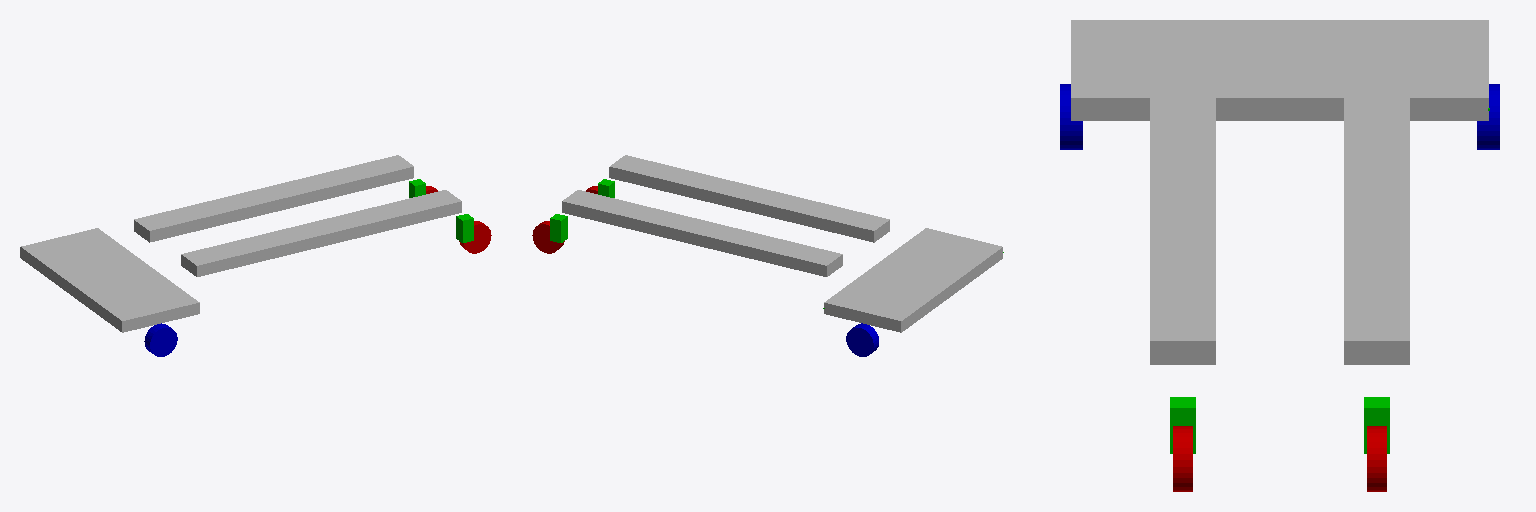
robot.urdf — amr:
<?xml version="1.0" ?>
<!-- =================================================================================== -->
<!-- |    This document was autogenerated by xacro from amr.xacro                      | -->
<!-- |    EDITING THIS FILE BY HAND IS NOT RECOMMENDED                                 | -->
<!-- =================================================================================== -->
<robot name="amr">
  <!-- kp: stiffness coefficient,   [N/m?]  -->
  <!-- kp: stiffness coefficient,   [N/m?]  -->
  <!-- cw_izz: caster wheel inertia z axis, [kgm^2]  -->
  <!-- dwt: driving wheel tread, [m]  -->
  <!-- dw_izz: driving wheel inertia z axis, [kgm^2]  -->
  <!-- ch: chassis center of mass position,  [m] -->
  <!-- c_izz: chassis inertia z axis, [kgm^2]  -->
  <!-- cfwp: caster front wheel position, [m]  -->
  <!--xacro:macro name="driving_wheel_transmission" params="number">
        <transmission name="tran${number}">
            <type>transmission_interface/SimpleTransmission</type>
            <joint name="base_link_driving_wheel_M${number}_joint">
                <hardwareInterface>hardware_interface/VelocityJointInterface</hardwareInterface>
            </joint>
            <actuator name="motor${number}">
                <hardwareInterface>hardware_interface/VelocityJointInterface</hardwareInterface>
                <mechanicalReduction>1</mechanicalReduction>
            </actuator>
        </transmission>
    </xacro:macro-->
  <material name="blue">
    <color rgba="0 0 0.8 1"/>
  </material>
  <material name="red">
    <color rgba="0.8 0 0 1"/>
  </material>
  <material name="green">
    <color rgba="0 0.8 0 1"/>
  </material>
  <material name="grey">
    <color rgba="0.75 0.75 0.75 1"/>
  </material>
  <material name="white">
    <color rgba="1.0 1.0 1.0 1"/>
  </material>
  <material name="black">
    <color rgba="0 0 0 1"/>
  </material>
  <!-- * * * Link Definitions * * * -->
  <link name="base_link">
    <visual>
      <origin rpy="0 0 0" xyz="0 0 0"/>
      <geometry>
        <box size="0.35 0.8 0.05"/>
      </geometry>
      <material name="grey"/>
    </visual>
    <collision>
      <origin rpy="0 0 0" xyz="0 0 0"/>
      <geometry>
        <box size="0.35 0.8 0.05"/>
      </geometry>
    </collision>
    <inertial>
      <origin rpy="0 0 0" xyz="0 0 0"/>
      <!-- default: xyz="0 0 0" rpy="0 0 0" -->
      <mass value="70.0"/>
      <inertia ixx="3.747916666666667" ixy="0.0" ixz="0.0" iyy="0.7291666666666665" iyz="0.0" izz="4.447916666666667"/>
    </inertial>
  </link>
  <gazebo reference="base_link">
    <kp>10000.0</kp>
    <kd>10000.0</kd>
    <mu1>10.0</mu1>
    <mu2>10.0</mu2>
    <material>Gazebo/Grey</material>
  </gazebo>
  <link name="elevator_sx_link">
    <visual>
      <origin rpy="0 0 0" xyz="0 0 0"/>
      <geometry>
        <box size="1.2 0.125 0.05"/>
      </geometry>
      <material name="grey"/>
    </visual>
    <collision>
      <origin rpy="0 0 0" xyz="0 0 0"/>
      <geometry>
        <box size="1.2 0.125 0.05"/>
      </geometry>
    </collision>
    <inertial>
      <origin rpy="0 0 0" xyz="0 0 0"/>
      <!-- default: xyz="0 0 0" rpy="0 0 0" -->
      <mass value="10"/>
      <inertia ixx="3.747916666666667" ixy="0.0" ixz="0.0" iyy="0.7291666666666665" iyz="0.0" izz="4.447916666666667"/>
    </inertial>
  </link>
  <gazebo reference="elevator_sx_link">
    <kp>10000.0</kp>
    <kd>10000.0</kd>
    <mu1>10.0</mu1>
    <mu2>10.0</mu2>
    <material>Gazebo/Grey</material>
  </gazebo>
  <joint name="base_link_elevator_sx_link_joint" type="prismatic">
    <parent link="base_link"/>
    <child link="elevator_sx_link"/>
    <limit effort="1000.0" lower="0" upper="0.080" velocity="0.5"/>
    <origin rpy="0 0 0" xyz="0.85 0.186 0.080"/>
    <axis xyz="0 0 1"/>
  </joint>
  <link name="elevator_dx_link">
    <visual>
      <origin rpy="0 0 0" xyz="0 0 0"/>
      <geometry>
        <box size="1.2 0.125 0.05"/>
      </geometry>
      <material name="grey"/>
    </visual>
    <collision>
      <origin rpy="0 0 0" xyz="0 0 0"/>
      <geometry>
        <box size="1.2 0.125 0.05"/>
      </geometry>
    </collision>
    <inertial>
      <origin rpy="0 0 0" xyz="0 0 0"/>
      <!-- default: xyz="0 0 0" rpy="0 0 0" -->
      <mass value="10"/>
      <inertia ixx="3.747916666666667" ixy="0.0" ixz="0.0" iyy="0.7291666666666665" iyz="0.0" izz="4.447916666666667"/>
    </inertial>
  </link>
  <gazebo reference="elevator_dx_link">
    <kp>10000.0</kp>
    <kd>10000.0</kd>
    <mu1>10.0</mu1>
    <mu2>10.0</mu2>
    <material>Gazebo/Grey</material>
  </gazebo>
  <joint name="base_link_elevator_dx_link_joint" type="prismatic">
    <parent link="base_link"/>
    <child link="elevator_dx_link"/>
    <limit effort="1000.0" lower="0" upper="0.080" velocity="0.5"/>
    <origin rpy="0 0 0" xyz="0.85 -0.186 0.080"/>
    <axis xyz="0 0 1"/>
  </joint>
  <link name="caster_wheel_M1_link">
    <visual>
      <origin rpy="0 0 0" xyz="0 0 0"/>
      <geometry>
        <box size="0.050 0.050 0.0975"/>
      </geometry>
      <material name="green"/>
    </visual>
    <collision>
      <origin rpy="0 0 0" xyz="0 0 0"/>
      <geometry>
        <box size="0.050 0.050 0.0975"/>
      </geometry>
    </collision>
    <inertial>
      <origin rpy="0 0 0" xyz="0 0 0"/>
      <mass value="0.05"/>
      <inertia ixx="0" ixy="0.0" ixz="0.0" iyy="0" iyz="0.0" izz="0"/>
    </inertial>
  </link>
  <gazebo reference="caster_wheel_M1_link">
    <kp>10000.0</kp>
    <kd>10000.0</kd>
    <mu1>10.0</mu1>
    <mu2>10.0</mu2>
    <material>Gazebo/Green</material>
  </gazebo>
  <link name="wheel_M1_link">
    <visual>
      <origin rpy="0 0 0" xyz="0 0 0"/>
      <geometry>
        <cylinder length="0.037" radius="0.0625"/>
      </geometry>
      <material name="red"/>
    </visual>
    <collision>
      <origin rpy="0 0 0" xyz="0 0 0"/>
      <geometry>
        <cylinder length="0.037" radius="0.0625"/>
      </geometry>
    </collision>
    <inertial>
      <origin rpy="0 0 0" xyz="0 0 0"/>
      <mass value="0.5"/>
      <inertia ixx="0.0005453229166666666" ixy="0.0" ixz="0.0" iyy="0.0005453229166666666" iyz="0.0" izz="0.0009765625"/>
    </inertial>
  </link>
  <gazebo reference="wheel_M1_link">
    <kp>5000.0</kp>
    <kd>5000.0</kd>
    <mu1>30.0</mu1>
    <mu2>30.0</mu2>
    <material>Gazebo/Red</material>
  </gazebo>
  <joint name="caster_wheel_M1_wheel_M1_joint" type="continuous">
    <parent link="caster_wheel_M1_link"/>
    <child link="wheel_M1_link"/>
    <origin rpy="1.570796 0 0" xyz="0.047 0 -0.04875"/>
    <limit effort="1.0" velocity="0.005"/>
    <axis xyz="0 0 1"/>
  </joint>
  <link name="caster_wheel_M2_link">
    <visual>
      <origin rpy="0 0 0" xyz="0 0 0"/>
      <geometry>
        <box size="0.050 0.050 0.0975"/>
      </geometry>
      <material name="green"/>
    </visual>
    <collision>
      <origin rpy="0 0 0" xyz="0 0 0"/>
      <geometry>
        <box size="0.050 0.050 0.0975"/>
      </geometry>
    </collision>
    <inertial>
      <origin rpy="0 0 0" xyz="0 0 0"/>
      <mass value="0.05"/>
      <inertia ixx="0" ixy="0.0" ixz="0.0" iyy="0" iyz="0.0" izz="0"/>
    </inertial>
  </link>
  <gazebo reference="caster_wheel_M2_link">
    <kp>10000.0</kp>
    <kd>10000.0</kd>
    <mu1>10.0</mu1>
    <mu2>10.0</mu2>
    <material>Gazebo/Green</material>
  </gazebo>
  <link name="wheel_M2_link">
    <visual>
      <origin rpy="0 0 0" xyz="0 0 0"/>
      <geometry>
        <cylinder length="0.037" radius="0.0625"/>
      </geometry>
      <material name="red"/>
    </visual>
    <collision>
      <origin rpy="0 0 0" xyz="0 0 0"/>
      <geometry>
        <cylinder length="0.037" radius="0.0625"/>
      </geometry>
    </collision>
    <inertial>
      <origin rpy="0 0 0" xyz="0 0 0"/>
      <mass value="0.5"/>
      <inertia ixx="0.0005453229166666666" ixy="0.0" ixz="0.0" iyy="0.0005453229166666666" iyz="0.0" izz="0.0009765625"/>
    </inertial>
  </link>
  <gazebo reference="wheel_M2_link">
    <kp>5000.0</kp>
    <kd>5000.0</kd>
    <mu1>30.0</mu1>
    <mu2>30.0</mu2>
    <material>Gazebo/Red</material>
  </gazebo>
  <joint name="caster_wheel_M2_wheel_M2_joint" type="continuous">
    <parent link="caster_wheel_M2_link"/>
    <child link="wheel_M2_link"/>
    <origin rpy="1.570796 0 0" xyz="0.047 0 -0.04875"/>
    <limit effort="1.0" velocity="0.005"/>
    <axis xyz="0 0 1"/>
  </joint>
  <!-- 
    <xacro:caster_wheel_link number="3" colour="Red"/>
    <xacro:caster_wheel_link number="4" colour="Red"/> -->
  <joint name="base_link_caster_wheel_M1_joint" type="continuous">
    <parent link="base_link"/>
    <child link="caster_wheel_M1_link"/>
    <origin rpy="0 0 0" xyz="1.5 0.186 -0.05"/>
    <!-- xyz="${-clod/2} ${clad/2} ${-ch}" rpy="0 0 0" -->
    <limit effort="1.0" velocity="1"/>
    <axis xyz="0 0 1"/>
  </joint>
  <joint name="base_link_caster_wheel_M2_joint" type="continuous">
    <parent link="base_link"/>
    <child link="caster_wheel_M2_link"/>
    <origin rpy="0 0 0" xyz="1.5 -0.186 -0.05"/>
    <!-- xyz="${-clod/2} ${clad/2} ${-ch}" rpy="0 0 0" -->
    <limit effort="1.0" velocity="1"/>
    <axis xyz="0 0 1"/>
  </joint>
  <!-- 
    <joint name="base_link_caster_wheel_M3_joint" type="continuous">
    	<parent link="base_link"/>
    	<child link="caster_wheel_M3_link"/>
        <origin xyz="${-clod/2} ${clad/2} ${-ch}" rpy="0 0 0"/>
        <limit effort="1.0" velocity="1"/>
        <axis xyz="0 0 1"/>
	</joint>

    <joint name="base_link_caster_wheel_M4_joint" type="continuous">
    	<parent link="base_link"/>
    	<child link="caster_wheel_M4_link"/>
        <origin xyz="${-clod/2} ${-clad/2} ${-ch}" rpy="0 0 0"/> 
        <limit effort="1.0" velocity="1"/>
        <axis xyz="0 0 1"/>
	</joint> -->
  <link name="driving_wheel_M1_link">
    <visual>
      <origin rpy="0 0 0" xyz="0 0 0"/>
      <geometry>
        <cylinder length="0.044" radius="0.0625"/>
      </geometry>
      <material name="blue"/>
    </visual>
    <collision>
      <origin rpy="0 0 0" xyz="0 0 0"/>
      <geometry>
        <cylinder length="0.044" radius="0.0625"/>
      </geometry>
    </collision>
    <inertial>
      <origin rpy="0 0 0" xyz="0 0 0"/>
      <mass value="0.6"/>
      <inertia ixx="0.0006827375" ixy="0.0" ixz="0.0" iyy="0.0006827375" iyz="0.0" izz="0.001171875"/>
    </inertial>
  </link>
  <gazebo reference="driving_wheel_M1_link">
    <kp>25000.0</kp>
    <kd>25000.0</kd>
    <mu1>10.0</mu1>
    <mu2>10.0</mu2>
    <material>Gazebo/Blue</material>
  </gazebo>
  <link name="driving_wheel_M2_link">
    <visual>
      <origin rpy="0 0 0" xyz="0 0 0"/>
      <geometry>
        <cylinder length="0.044" radius="0.0625"/>
      </geometry>
      <material name="blue"/>
    </visual>
    <collision>
      <origin rpy="0 0 0" xyz="0 0 0"/>
      <geometry>
        <cylinder length="0.044" radius="0.0625"/>
      </geometry>
    </collision>
    <inertial>
      <origin rpy="0 0 0" xyz="0 0 0"/>
      <mass value="0.6"/>
      <inertia ixx="0.0006827375" ixy="0.0" ixz="0.0" iyy="0.0006827375" iyz="0.0" izz="0.001171875"/>
    </inertial>
  </link>
  <gazebo reference="driving_wheel_M2_link">
    <kp>25000.0</kp>
    <kd>25000.0</kd>
    <mu1>10.0</mu1>
    <mu2>10.0</mu2>
    <material>Gazebo/Blue</material>
  </gazebo>
  <joint name="base_link_driving_wheel_M1_joint" type="continuous">
    <parent link="base_link"/>
    <child link="driving_wheel_M1_link"/>
    <origin rpy="1.57 0 0" xyz="0 -0.4 -0.0975"/>
    <limit effort="15.0" velocity="0.1"/>
    <axis xyz="0 0 -1"/>
  </joint>
  <joint name="base_link_driving_wheel_M2_joint" type="continuous">
    <parent link="base_link"/>
    <child link="driving_wheel_M2_link"/>
    <origin rpy="1.57 0 0" xyz="0 0.4 -0.0975"/>
    <limit effort="15.0" velocity="0.1"/>
    <axis xyz="0 0 -1"/>
  </joint>
  <gazebo>
    <plugin filename="libgazebo_ros_diff_drive.so" name="differential_drive_controller">
      <alwaysOn>true</alwaysOn>
      <updateRate>50</updateRate>
      <leftJoint>base_link_driving_wheel_M2_joint</leftJoint>
      <rightJoint>base_link_driving_wheel_M1_joint</rightJoint>
      <wheelSeparation>0.8440000000000001</wheelSeparation>
      <wheelDiameter>0.125</wheelDiameter>
      <wheelAcceleration>0.2</wheelAcceleration>
      <wheelTorque>30</wheelTorque>
      <commandTopic>cmd_vel</commandTopic>
      <odometryTopic>odom</odometryTopic>
      <odometryFrame>odom</odometryFrame>
      <robotBaseFrame>base_footprint</robotBaseFrame>
      <publishWheelTF>true</publishWheelTF>
      <publishOdom>true</publishOdom>
      <robotBaseFrame>base_link</robotBaseFrame>
      <publishWheelJointState>true</publishWheelJointState>
      <legacyMode>false</legacyMode>
      <rosDebugLevel>false</rosDebugLevel>
      <publishOdomTF>true</publishOdomTF>
      <odometrySource>1</odometrySource>
      <publishTf>1</publishTf>
    </plugin>
  </gazebo>
  <!--xacro:driving_wheel_transmission number="1"/>
    <xacro:driving_wheel_transmission number="2"/-->
  <!-- ############# Sensors ############ -->
  <!-- Depth sensor in the front -->
  <link name="front_dcamera_link">
    <visual>
      <origin rpy="0.0 0 0" xyz="0 0 0"/>
      <geometry>
        <box size="0.0005 0.0005 0.0005"/>
      </geometry>
      <material name="green"/>
    </visual>
  </link>
  <joint name="base_front_dcamera_joint" type="fixed">
    <parent link="base_link"/>
    <child link="front_dcamera_link"/>
    <origin rpy="0 0 0" xyz="0.175 0 0"/>
  </joint>
  <gazebo reference="front_dcamera_link">
    <sensor name="front_depth_camera" type="depth">
      <update_rate>20</update_rate>
      <camera>
        <horizontal_fov>1.047198</horizontal_fov>
        <image>
          <width>640</width>
          <height>480</height>
          <format>R8G8B8</format>
        </image>
        <clip>
          <near>0.05</near>
          <far>3</far>
        </clip>
      </camera>
      <plugin filename="libgazebo_ros_openni_kinect.so" name="front_depth_link_controller">
        <baseline>0.2</baseline>
        <alwaysOn>true</alwaysOn>
        <updateRate>1.0</updateRate>
        <cameraName>front_dcamera</cameraName>
        <imageTopicName>front_dcamera/color/image_raw</imageTopicName>
        <cameraInfoTopicName>/front_dcamera/color/camera_info</cameraInfoTopicName>
        <depthImageTopicName>/front_dcamera/depth/image_raw</depthImageTopicName>
        <depthImageInfoTopicName>/front_dcamera/depth/camera_info</depthImageInfoTopicName>
        <pointCloudTopicName>/front_dcamera/depth/points</pointCloudTopicName>
        <frameName>front_dcamera_link</frameName>
        <pointCloudCutoff>0.5</pointCloudCutoff>
        <pointCloudCutoffMax>3.0</pointCloudCutoffMax>
        <distortionK1>0.00000001</distortionK1>
        <distortionK2>0.00000001</distortionK2>
        <distortionK3>0.00000001</distortionK3>
        <distortionT1>0.00000001</distortionT1>
        <distortionT2>0.00000001</distortionT2>
        <CxPrime>0</CxPrime>
        <Cx>0</Cx>
        <Cy>0</Cy>
        <focalLength>0</focalLength>
        <hackBaseline>0</hackBaseline>
      </plugin>
    </sensor>
  </gazebo>
  <!-- Depth sensor in the back -->
  <link name="rear_dcamera_link">
    <visual>
      <origin rpy="0.0 0 0" xyz="0 0 0"/>
      <geometry>
        <box size="0.0005 0.0005 0.0005"/>
      </geometry>
      <material name="green"/>
    </visual>
  </link>
  <joint name="base_rear_dcamera_joint" type="fixed">
    <parent link="base_link"/>
    <child link="rear_dcamera_link"/>
    <origin rpy="0 0 3.1416" xyz="-0.175 0 0"/>
  </joint>
  <gazebo reference="rear_dcamera_link">
    <sensor name="rear_depth_camera" type="depth">
      <update_rate>20</update_rate>
      <camera>
        <horizontal_fov>1.047198</horizontal_fov>
        <image>
          <width>640</width>
          <height>480</height>
          <format>R8G8B8</format>
        </image>
        <clip>
          <near>0.05</near>
          <far>3</far>
        </clip>
      </camera>
      <plugin filename="libgazebo_ros_openni_kinect.so" name="rear_depth_link_controller">
        <baseline>0.2</baseline>
        <alwaysOn>true</alwaysOn>
        <updateRate>1.0</updateRate>
        <cameraName>rear_dcamera</cameraName>
        <imageTopicName>rear_dcamera/color/image_raw</imageTopicName>
        <cameraInfoTopicName>/rear_dcamera/color/camera_info</cameraInfoTopicName>
        <depthImageTopicName>/rear_dcamera/depth/image_raw</depthImageTopicName>
        <depthImageInfoTopicName>/rear_dcamera/depth/camera_info</depthImageInfoTopicName>
        <pointCloudTopicName>/rear_dcamera/depth/points</pointCloudTopicName>
        <frameName>rear_dcamera_link</frameName>
        <pointCloudCutoff>0.5</pointCloudCutoff>
        <pointCloudCutoffMax>3.0</pointCloudCutoffMax>
        <distortionK1>0.00000001</distortionK1>
        <distortionK2>0.00000001</distortionK2>
        <distortionK3>0.00000001</distortionK3>
        <distortionT1>0.00000001</distortionT1>
        <distortionT2>0.00000001</distortionT2>
        <CxPrime>0</CxPrime>
        <Cx>0</Cx>
        <Cy>0</Cy>
        <focalLength>0</focalLength>
        <hackBaseline>0</hackBaseline>
      </plugin>
    </sensor>
  </gazebo>
  <!-- Sensor Laser in the front -->
  <link name="front_laserscanner_link">
    <visual>
      <origin rpy="0.0 0 0" xyz="0 0 0"/>
      <geometry>
        <box size="0.005 0.005 0.005"/>
      </geometry>
      <material name="green"/>
    </visual>
    <collision>
      <origin rpy="0.0 0 0" xyz="0 0 0"/>
      <geometry>
        <box size="0.005 0.005 0.005"/>
      </geometry>
    </collision>
    <inertial>
      <mass value="1e-5"/>
      <origin rpy="0 0 0" xyz="0 0 0"/>
      <inertia ixx="1e-6" ixy="0" ixz="0" iyy="1e-6" iyz="0" izz="1e-6"/>
    </inertial>
  </link>
  <joint name="base_front_laserscanner_joint" type="fixed">
    <axis xyz="0 1 0"/>
    <parent link="base_link"/>
    <child link="front_laserscanner_link"/>
    <origin rpy="0 0 0" xyz="0.175 0.4 0"/>
  </joint>
  <gazebo reference="front_laserscanner_link">
    <sensor name="front_rplidar_sensor" type="ray">
      <pose>0 0 0 0 0 0</pose>
      <visualize>false</visualize>
      <update_rate>40</update_rate>
      <ray>
        <scan>
          <horizontal>
            <samples>720</samples>
            <resolution>1</resolution>
            <min_angle>-1.4</min_angle>
            <max_angle>3.1416</max_angle>
          </horizontal>
        </scan>
        <range>
          <min>0.10</min>
          <max>30.0</max>
          <resolution>0.01</resolution>
        </range>
        <noise>
          <type>gaussian</type>
          <!-- Noise parameters based on published spec for Hokuyo laser
                         achieving "+-30mm" accuracy at range < 10m.  A mean of 0.0m and
                         stddev of 0.01m will put 99.7% of samples within 0.03m of the true
                         reading. -->
          <mean>0.0</mean>
          <stddev>0.01</stddev>
        </noise>
      </ray>
      <plugin filename="libgazebo_ros_laser.so" name="gazebo_ros_head_hokuyo_controller">
        <topicName>front_scan</topicName>
        <frameName>front_laserscanner_link</frameName>
      </plugin>
    </sensor>
  </gazebo>
  <!--gazebo reference="rplidar_link">
        <material>Gazebo/FlatBlack</material>
    </gazebo-->
  <!-- Sensor Laser in the back -->
  <link name="rear_laserscanner_link">
    <visual>
      <origin rpy="0.0 0 0" xyz="0 0 0"/>
      <geometry>
        <box size="0.0005 0.0005 0.0005"/>
      </geometry>
      <material name="green"/>
    </visual>
    <collision>
      <origin rpy="0.0 0 0" xyz="0 0 0"/>
      <geometry>
        <box size="0.0005 0.0005 0.0005"/>
      </geometry>
    </collision>
    <inertial>
      <mass value="1e-5"/>
      <origin rpy="0 0 0" xyz="0 0 0"/>
      <inertia ixx="1e-6" ixy="0" ixz="0" iyy="1e-6" iyz="0" izz="1e-6"/>
    </inertial>
  </link>
  <joint name="base_rear_laserscanner_joint" type="fixed">
    <parent link="base_link"/>
    <child link="rear_laserscanner_link"/>
    <origin rpy="0 0 3.14159268" xyz="-0.175 -0.4 0"/>
  </joint>
  <gazebo reference="rear_laserscanner_link">
    <sensor name="rear_rplidar_sensor" type="ray">
      <pose>0 0 0 0 0 0</pose>
      <visualize>false</visualize>
      <update_rate>40</update_rate>
      <ray>
        <scan>
          <horizontal>
            <samples>720</samples>
            <resolution>1</resolution>
            <min_angle>-1.4</min_angle>
            <max_angle>3.1416</max_angle>
          </horizontal>
        </scan>
        <range>
          <min>0.10</min>
          <max>30.0</max>
          <resolution>0.01</resolution>
        </range>
        <noise>
          <type>gaussian</type>
          <!-- Noise parameters based on published spec for Hokuyo laser
                         achieving "+-30mm" accuracy at range < 10m.  A mean of 0.0m and
                         stddev of 0.01m will put 99.7% of samples within 0.03m of the true
                         reading. -->
          <mean>0.0</mean>
          <stddev>0.01</stddev>
        </noise>
      </ray>
      <plugin filename="libgazebo_ros_laser.so" name="gazebo_ros_head_hokuyo_controller">
        <topicName>rear_scan</topicName>
        <frameName>rear_laserscanner_link</frameName>
      </plugin>
    </sensor>
  </gazebo>
</robot>

--- Facts derived from the render (not from the file) ---
3 views of the same robot in one strip: view 1: azimuth 30°, elevation 25°; view 2: azimuth 150°, elevation 25°; view 3: azimuth 270°, elevation 25° (orthographic).
Robot: amr — 13 links, 12 joints (6 continuous, 2 prismatic, 4 fixed); root link base_link; default pose: every joint at zero.
Links seen in each view (by area): view 1: base_link, elevator_dx_link, elevator_sx_link, driving_wheel_M1_link, wheel_M2_link; view 2: base_link, elevator_dx_link, elevator_sx_link, driving_wheel_M2_link, wheel_M1_link; view 3: base_link, elevator_sx_link, elevator_dx_link, wheel_M1_link, wheel_M2_link, driving_wheel_M1_link, driving_wheel_M2_link, caster_wheel_M1_link, caster_wheel_M2_link.
Link boxes in pixels (x1=…): base_link: x1=20, y1=228, x2=199, y2=332; elevator_dx_link: x1=181, y1=190, x2=461, y2=276; elevator_sx_link: x1=134, y1=155, x2=413, y2=242; driving_wheel_M1_link: x1=144, y1=323, x2=177, y2=356; wheel_M2_link: x1=459, y1=221, x2=491, y2=253; base_link: x1=824, y1=228, x2=1002, y2=332; elevator_dx_link: x1=609, y1=155, x2=889, y2=242; elevator_sx_link: x1=562, y1=190, x2=842, y2=276; driving_wheel_M2_link: x1=846, y1=323, x2=878, y2=356; wheel_M1_link: x1=532, y1=221, x2=564, y2=253; base_link: x1=1071, y1=20, x2=1488, y2=120; elevator_sx_link: x1=1344, y1=76, x2=1409, y2=364; elevator_dx_link: x1=1150, y1=76, x2=1215, y2=364; wheel_M1_link: x1=1367, y1=426, x2=1386, y2=491; wheel_M2_link: x1=1173, y1=426, x2=1192, y2=491; driving_wheel_M1_link: x1=1060, y1=84, x2=1082, y2=149; driving_wheel_M2_link: x1=1477, y1=84, x2=1499, y2=149; caster_wheel_M1_link: x1=1364, y1=397, x2=1389, y2=453; caster_wheel_M2_link: x1=1170, y1=397, x2=1195, y2=453.
Bounding box of the posed robot: 1.78 × 0.8441 × 0.2663 m (x, y, z).
Geometry: primitives only (box / cylinder / sphere), no mesh files.
